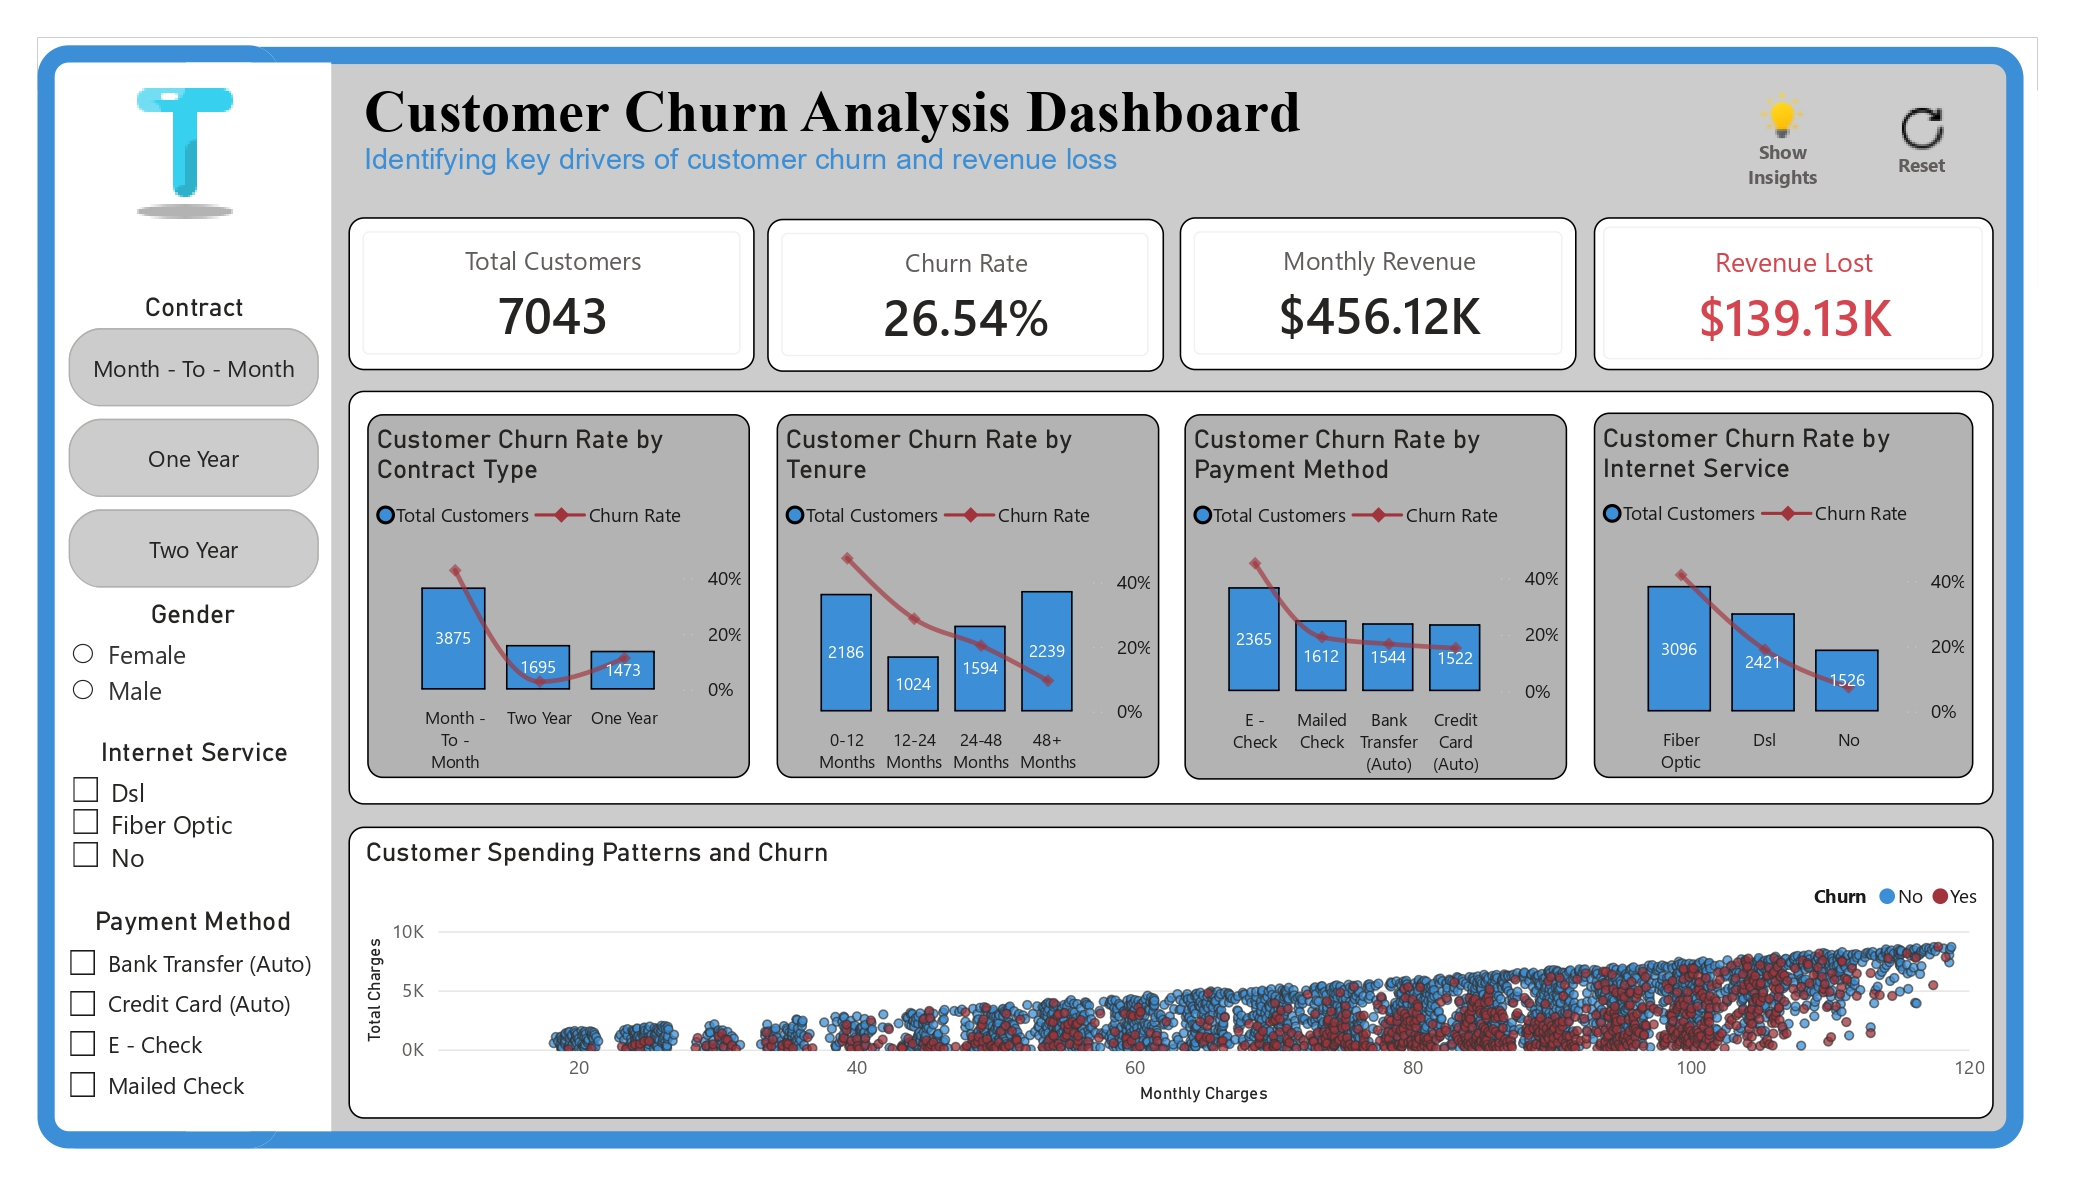

This screenshot's page, from the dashboard's own definition file:
{"tool":"powerbi","page":{"name":"Page 1","canvas":[1280,720],"ordinal":0},"visuals":[{"type":"shape","box":[5.7,5.7,1265,705],"z":0},{"type":"shape","box":[0,5,155.2,705.7],"z":1000},{"type":"shape","box":[94.7,15.8,93.2,684],"z":2000},{"type":"shape","box":[198.9,225.8,1053.2,265.3],"z":3000},{"type":"cardVisual","title":"Total Customers Card","fields":{"Data":["telco_churn.Total Customers"]},"box":[198.9,115.3,260.5,97.9],"z":4000},{"type":"cardVisual","title":"Churn Rate Card","fields":{"Data":["telco_churn.Churn Rate"]},"box":[467.1,116,253.4,97.7],"z":5000},{"type":"cardVisual","title":"Monthly Revenue Card","fields":{"Data":["telco_churn.Monthly Revenue"]},"box":[730.5,115,254.2,97.9],"z":6000},{"type":"cardVisual","title":"Revenue Lost Card","fields":{"Data":["telco_churn.Revenue Lost"]},"box":[995.8,115.3,255.8,97.9],"z":7000},{"type":"image","box":[23.2,16.6,142.5,99.4],"z":8000},{"type":"lineClusteredColumnComboChart","title":"Customer Churn Rate by Contract Type","fields":{"Y":["telco_churn.Total Customers"],"Y2":["telco_churn.Churn Rate"],"Category":["telco_churn.Contract"]},"box":[211,241,245,233],"z":9000},{"type":"lineClusteredColumnComboChart","title":"Customer Churn Rate by Tenure","fields":{"Category":["telco_churn.Tenure Group"],"Y":["telco_churn.Total Customers"],"Y2":["telco_churn.Churn Rate"]},"box":[472.6,241,245,233],"z":10000},{"type":"lineClusteredColumnComboChart","title":"Customer Churn Rate by Payment Method","fields":{"Y":["telco_churn.Total Customers"],"Y2":["telco_churn.Churn Rate"],"Category":["telco_churn.Payment Method"]},"box":[734,241,245,233.6],"z":11000},{"type":"lineClusteredColumnComboChart","title":"Customer Churn Rate by Internet Service","fields":{"Y":["telco_churn.Total Customers"],"Y2":["telco_churn.Churn Rate"],"Category":["telco_churn.Internet Service"]},"box":[995.5,240.2,243.5,233.6],"z":12000},{"type":"scatterChart","title":"Customer Spending Patterns and Churn","fields":{"X":["telco_churn.Monthly Charges"],"Y":["telco_churn.Total Charges"],"Series":["telco_churn.Churn"]},"box":[198.9,505.3,1053.2,186.3],"z":13000},{"type":"advancedSlicerVisual","fields":{"Values":["telco_churn.Contract"]},"box":[14.9,162.3,170.6,195.5],"z":14000},{"type":"listSlicer","fields":{"Values":["telco_churn.Gender"]},"box":[14.9,359.5,169,76.2],"z":15000},{"type":"listSlicer","fields":{"Values":["telco_churn.Internet Service"]},"box":[16.6,447.2,167.3,94.4],"z":16000},{"type":"listSlicer","fields":{"Values":["telco_churn.Payment Method"]},"box":[14.9,554.9,169,135.8],"z":17000},{"type":"textbox","title":"Customer Churn Analysis Dashboard","box":[204.1,26,1041.3,85],"z":18000},{"type":"actionButton","box":[1160.1,16.5,91.8,99.1],"z":19000},{"type":"actionButton","box":[1070.1,16.5,93.6,99.1],"z":19500}]}

Visuals, with their boxes in screenshot pixels (x1, y1, x2, y2):
shape: [left=57, top=47, right=2008, bottom=1134]
shape: [left=49, top=46, right=288, bottom=1134]
shape: [left=195, top=62, right=338, bottom=1117]
shape: [left=355, top=386, right=1979, bottom=795]
"Total Customers Card" cardVisual: [left=355, top=216, right=757, bottom=367]
"Churn Rate Card" cardVisual: [left=769, top=217, right=1160, bottom=367]
"Monthly Revenue Card" cardVisual: [left=1175, top=215, right=1567, bottom=366]
"Revenue Lost Card" cardVisual: [left=1584, top=216, right=1979, bottom=367]
image: [left=84, top=63, right=304, bottom=217]
"Customer Churn Rate by Contract Type" lineClusteredColumnComboChart: [left=374, top=409, right=752, bottom=769]
"Customer Churn Rate by Tenure" lineClusteredColumnComboChart: [left=777, top=409, right=1155, bottom=769]
"Customer Churn Rate by Payment Method" lineClusteredColumnComboChart: [left=1180, top=409, right=1558, bottom=770]
"Customer Churn Rate by Internet Service" lineClusteredColumnComboChart: [left=1584, top=408, right=1959, bottom=768]
"Customer Spending Patterns and Churn" scatterChart: [left=355, top=817, right=1979, bottom=1104]
advancedSlicerVisual - telco_churn.Contract: [left=72, top=288, right=335, bottom=590]
listSlicer - telco_churn.Gender: [left=72, top=592, right=332, bottom=710]
listSlicer - telco_churn.Internet Service: [left=74, top=727, right=332, bottom=873]
listSlicer - telco_churn.Payment Method: [left=72, top=893, right=332, bottom=1103]
"Customer Churn Analysis Dashboard" textbox: [left=363, top=78, right=1969, bottom=209]
actionButton: [left=1838, top=63, right=1979, bottom=216]
actionButton: [left=1699, top=63, right=1843, bottom=216]
